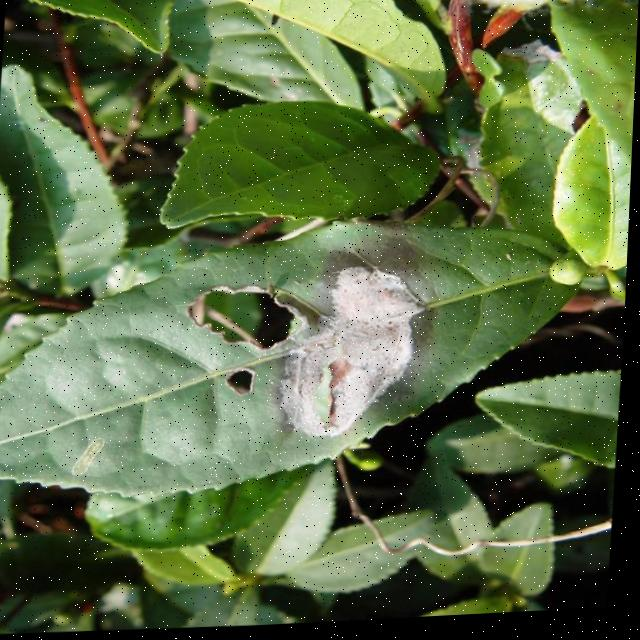Tea cloud leaf blight: (255, 222, 435, 446)
